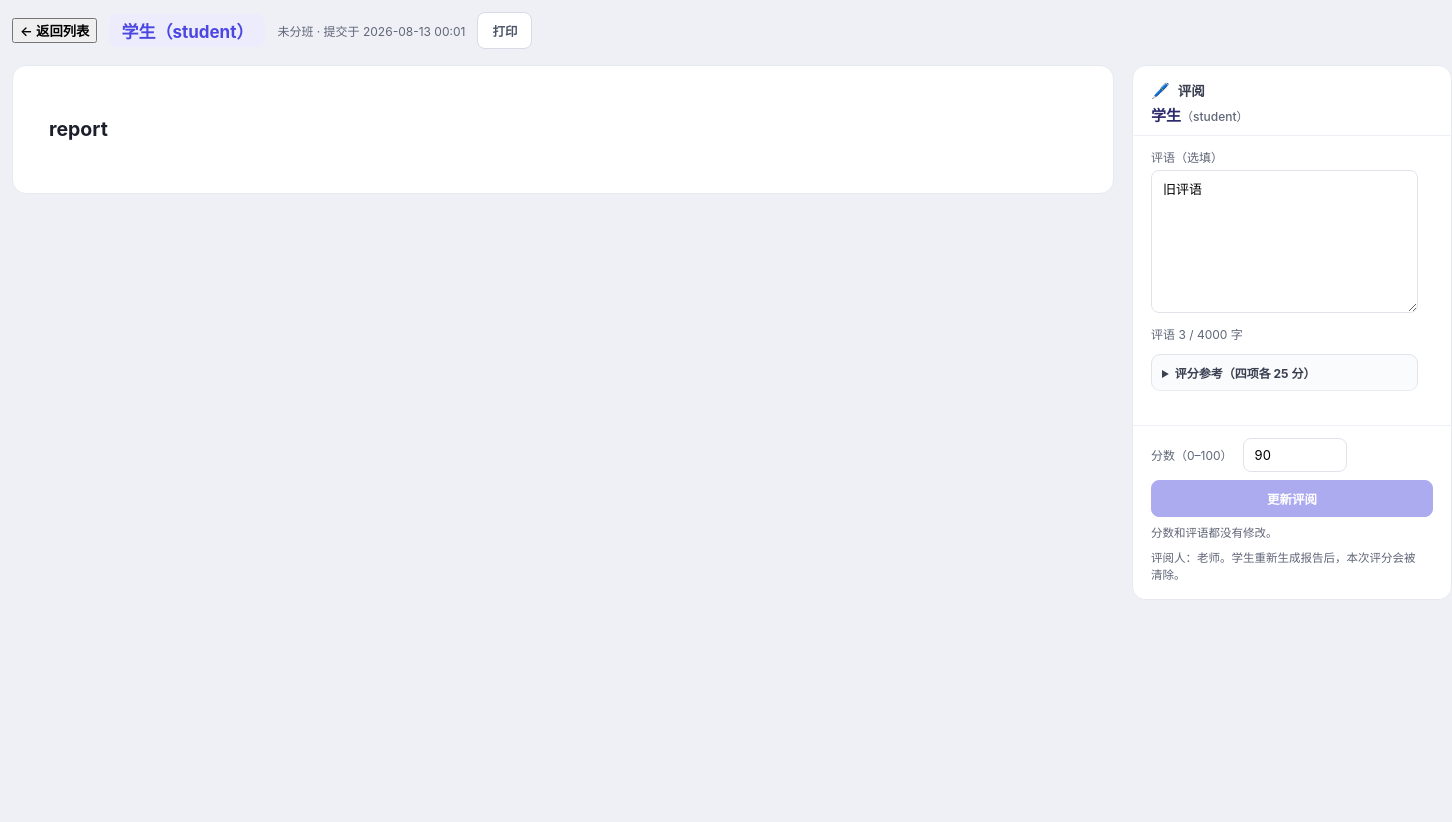
it: an unchanged graded review cannot be re-saved; a change re-enables it
Expected: the button "更新评阅" is disabled, x1=1151 y1=480 x2=1433 y2=517
Expected: the text "分数和评语都没有修改。" is shown, x1=1151 y1=526 x2=1278 y2=540
Replace the text in the number field with "91" at coordinates (1295, 455), box x1=1243 y1=438 x2=1347 y2=472
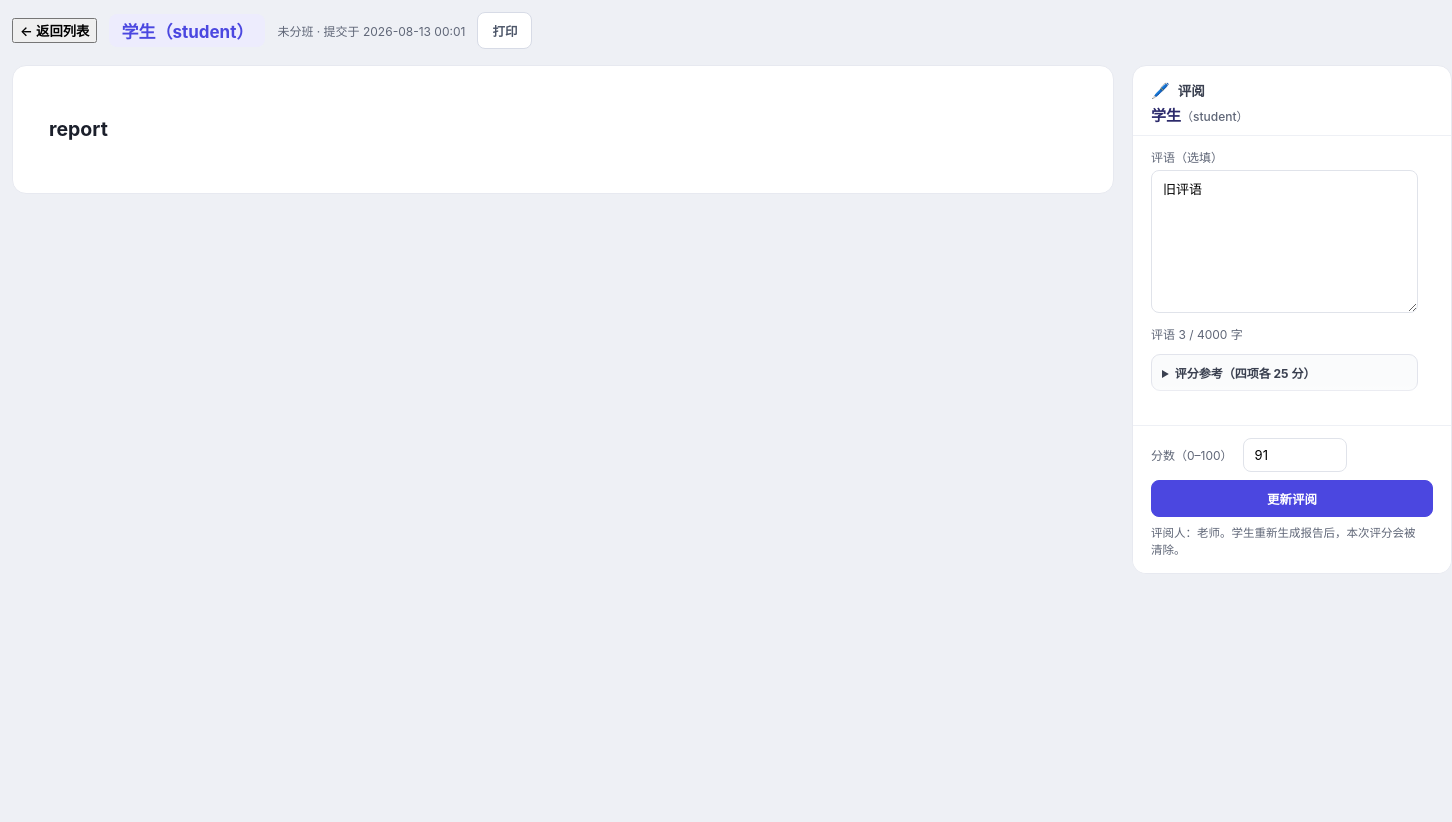
Expected: the text "评阅人：老师。学生重新生成报告后，本次评分会被清除。" is shown, x1=1151 y1=525 x2=1433 y2=559
Result: the button "更新评阅" is enabled at x1=1151 y1=480 x2=1433 y2=517
Result: the text "分数和评语都没有修改。" is gone
